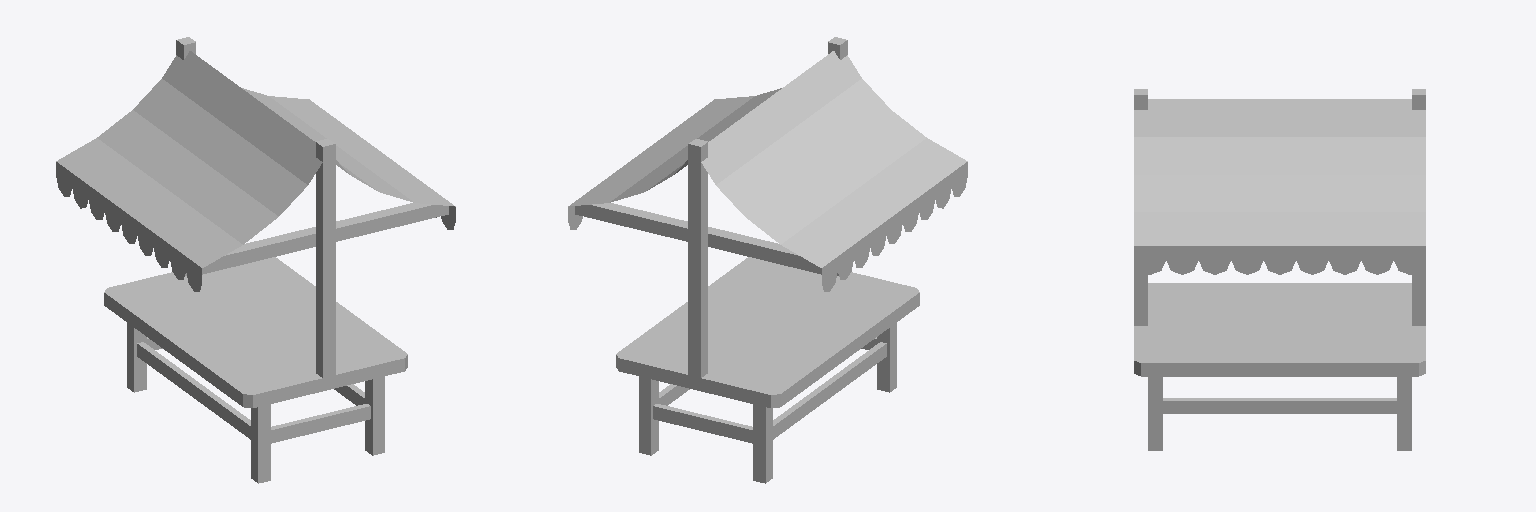
Rendered from stall-green.obj.
3 views of the same model, side by side, from view 1: azimuth 30°, elevation 25°; view 2: azimuth 150°, elevation 25°; view 3: azimuth 270°, elevation 25° (orthographic).
Visible parts, largest first — view 1: stall-green; view 2: stall-green; view 3: stall-green.
Part boxes in pixels (x1,y1,x2,y2): stall-green: (56,37,455,483); stall-green: (568,37,967,483); stall-green: (1134,89,1425,450).
Size of the model in its own units: 1 by 1.24 by 1.